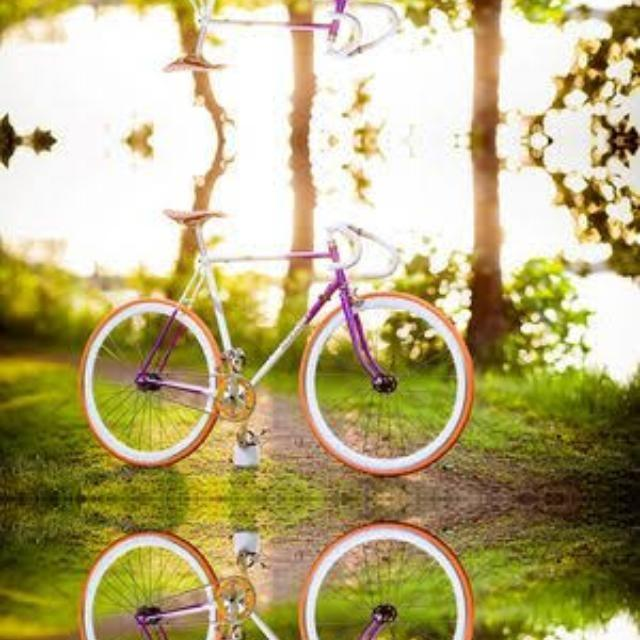obstacle: (82, 190, 476, 472), (82, 525, 475, 640), (82, 0, 475, 89)
